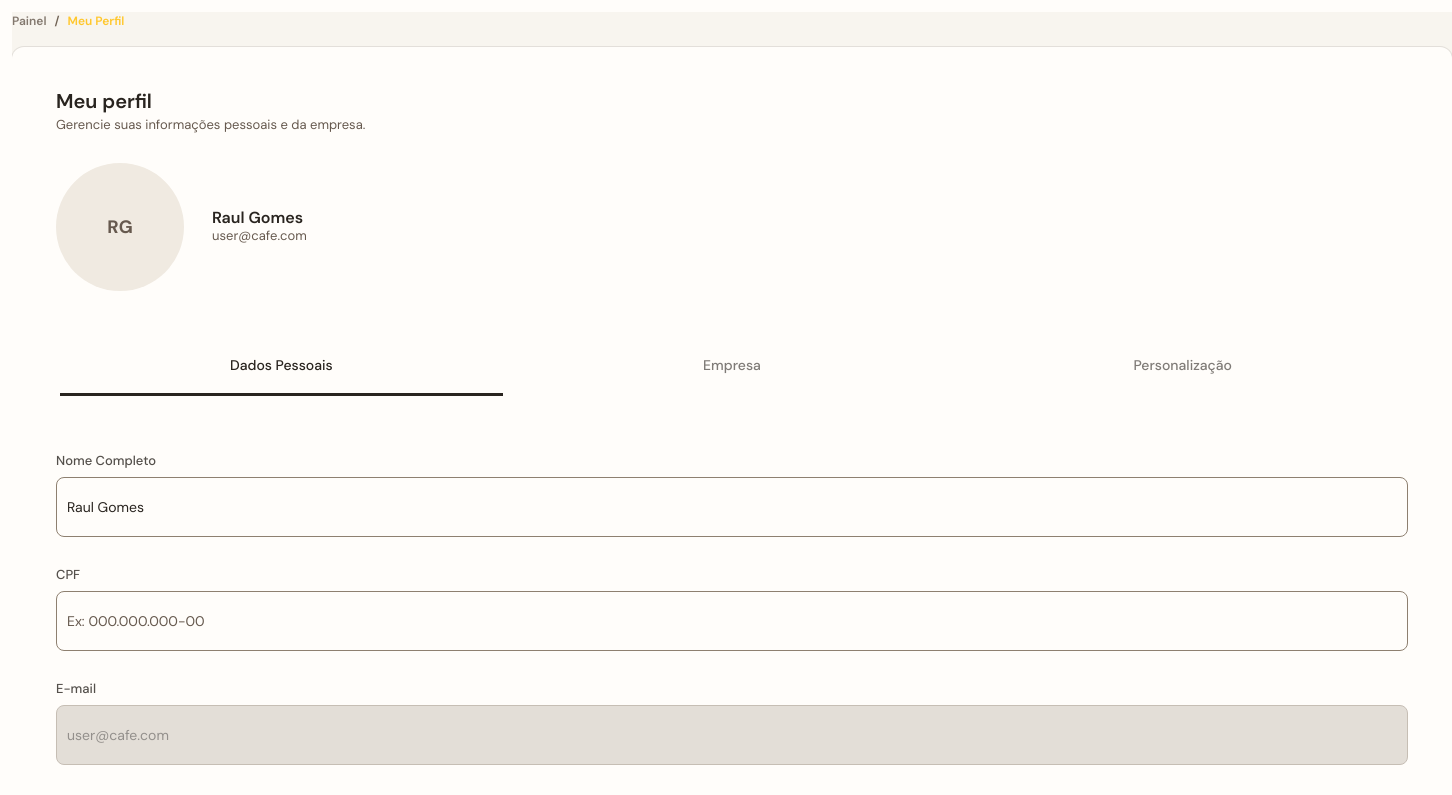
Scenario: PerfilPage › autofills company and address data from CNPJ lookup on blur (aba Empresa)
Check: the field showing "Raul Gomes" below "Nome Completo" is shown, box top-left (56, 477), bottom-right (1408, 537)
Click the tab "Empresa": (732, 365) top-left (510, 339), bottom-right (954, 392)
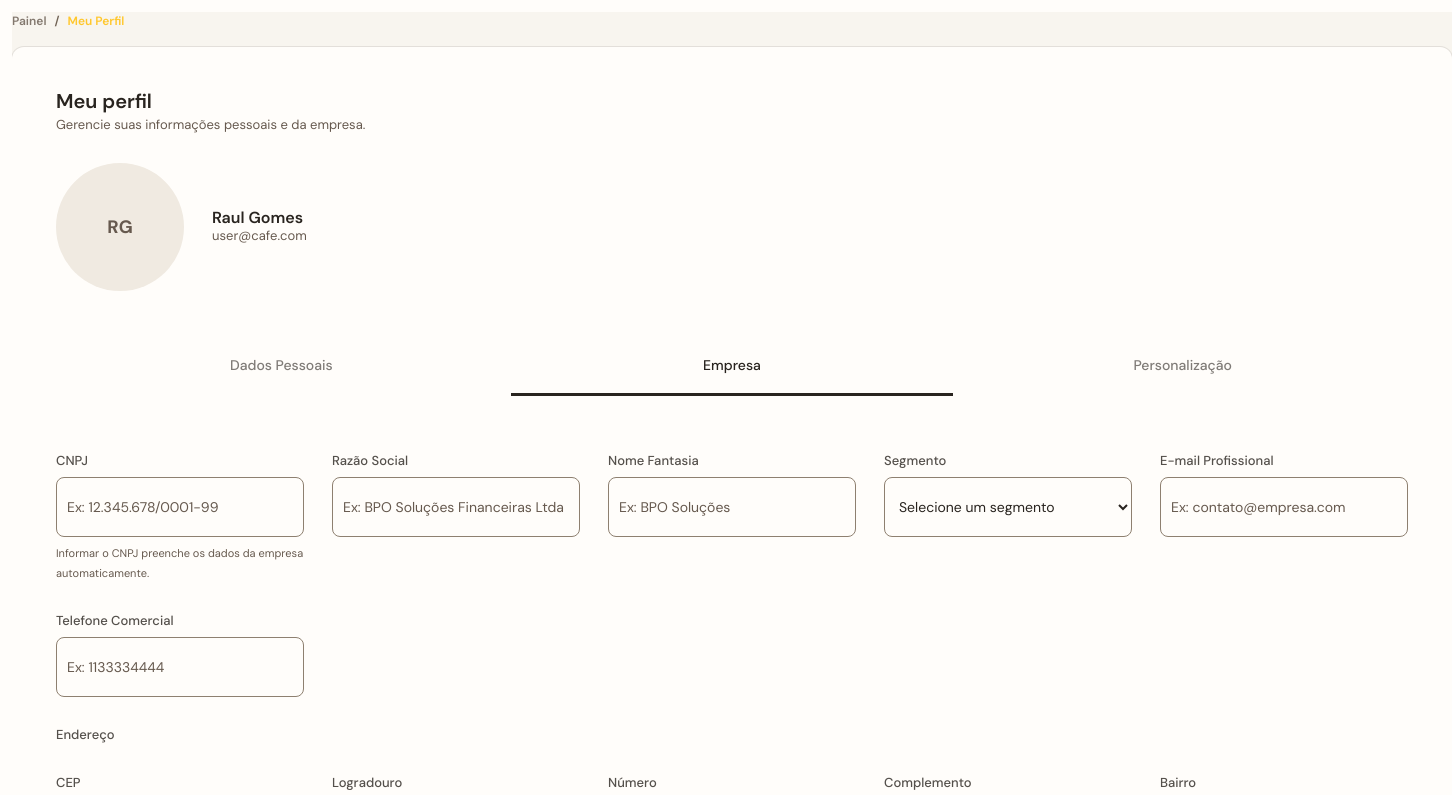
In the field with placeholder "Ex: 12.345.678/0001-99": (180, 507) top-left (56, 477), bottom-right (304, 537), type "12345678000199"
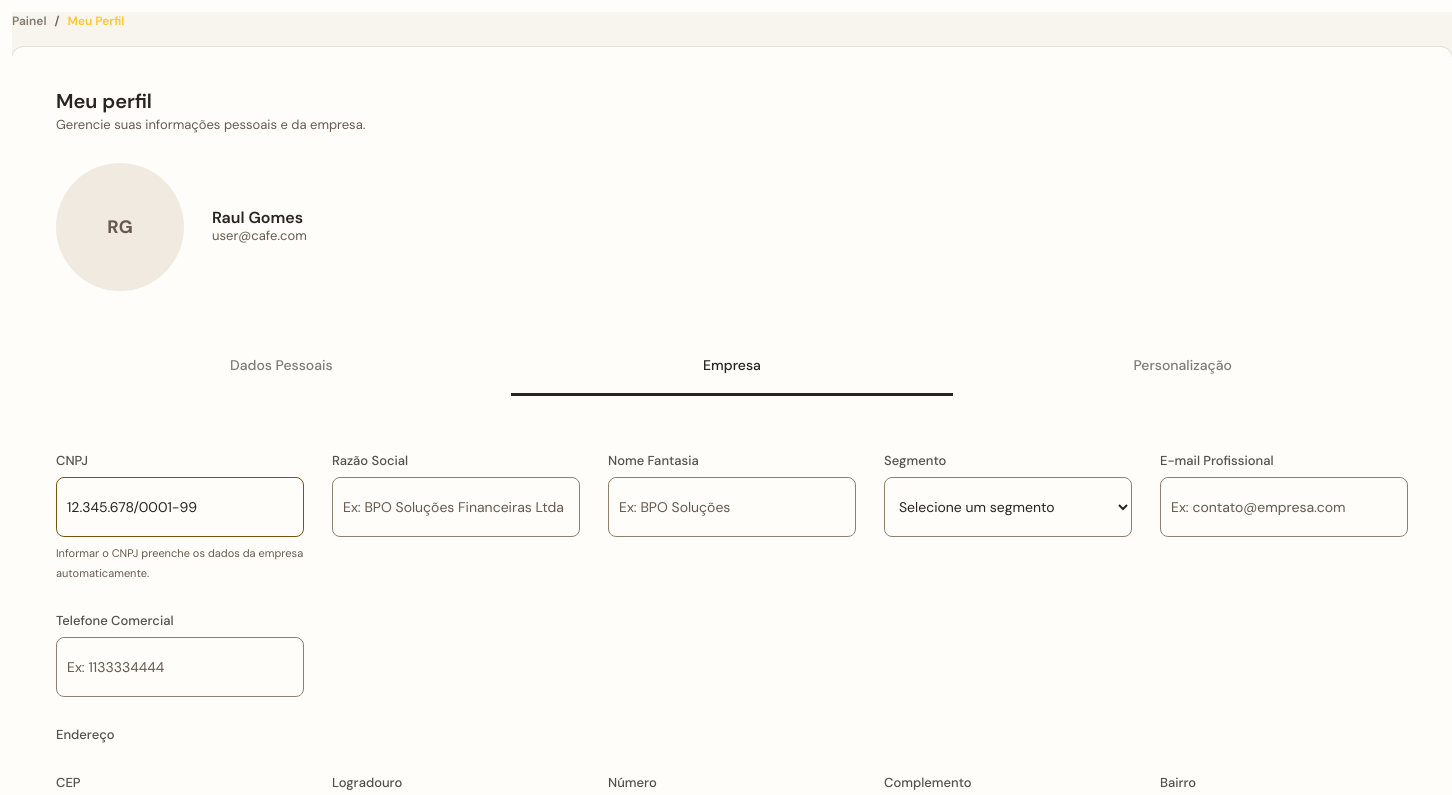
Leave the field with placeholder "Ex: 12.345.678/0001-99", box top-left (56, 477), bottom-right (304, 537)
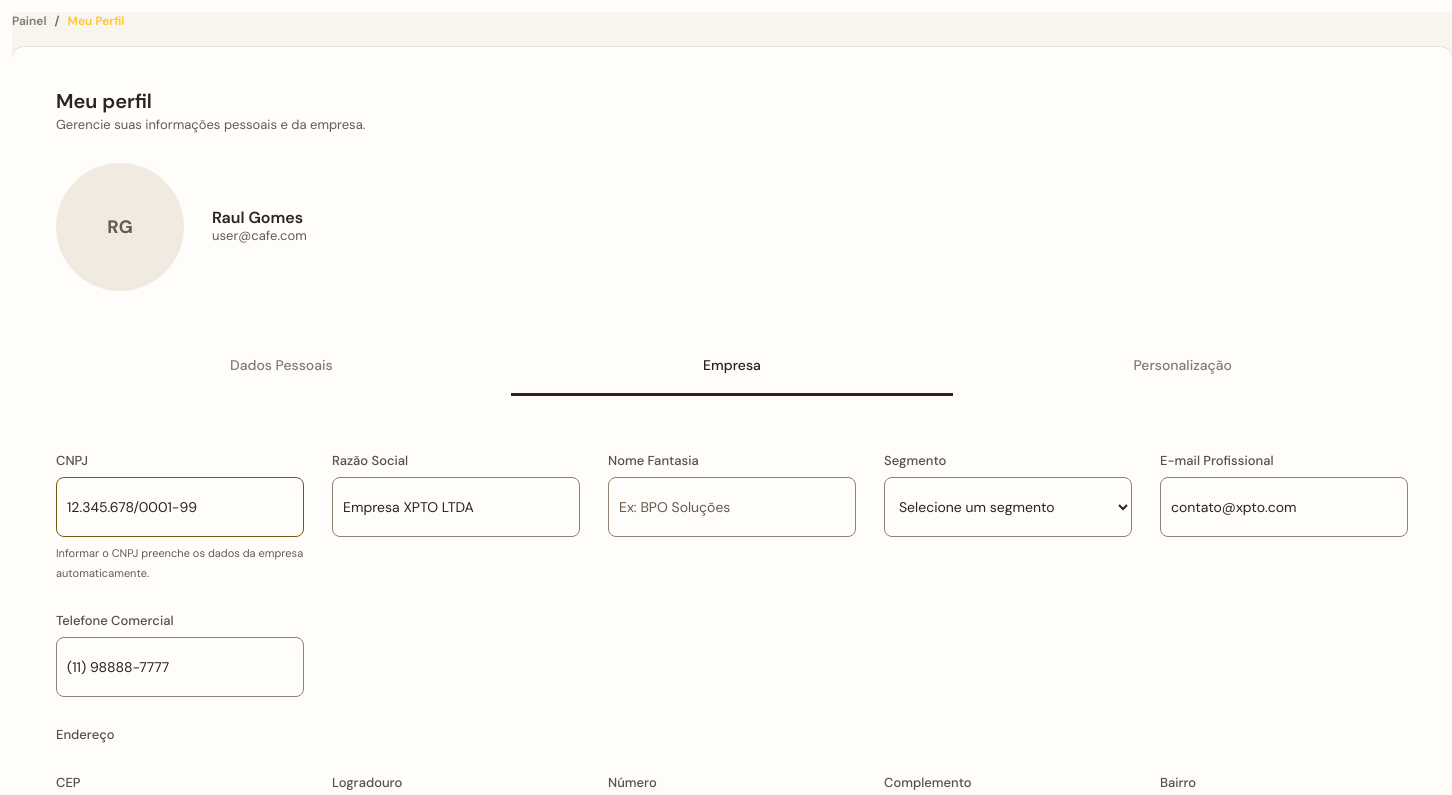
Check: the field with placeholder "Ex: contato@empresa.com" below "E-mail Profissional" holds "contato@xpto.com", box top-left (1160, 477), bottom-right (1408, 537)
Check: the field with placeholder "Ex: BPO Soluções Financeiras Ltda" below "Razão Social" holds "Empresa XPTO LTDA", box top-left (332, 477), bottom-right (580, 537)
